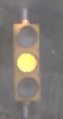Yellow: (7, 13, 48, 119)
